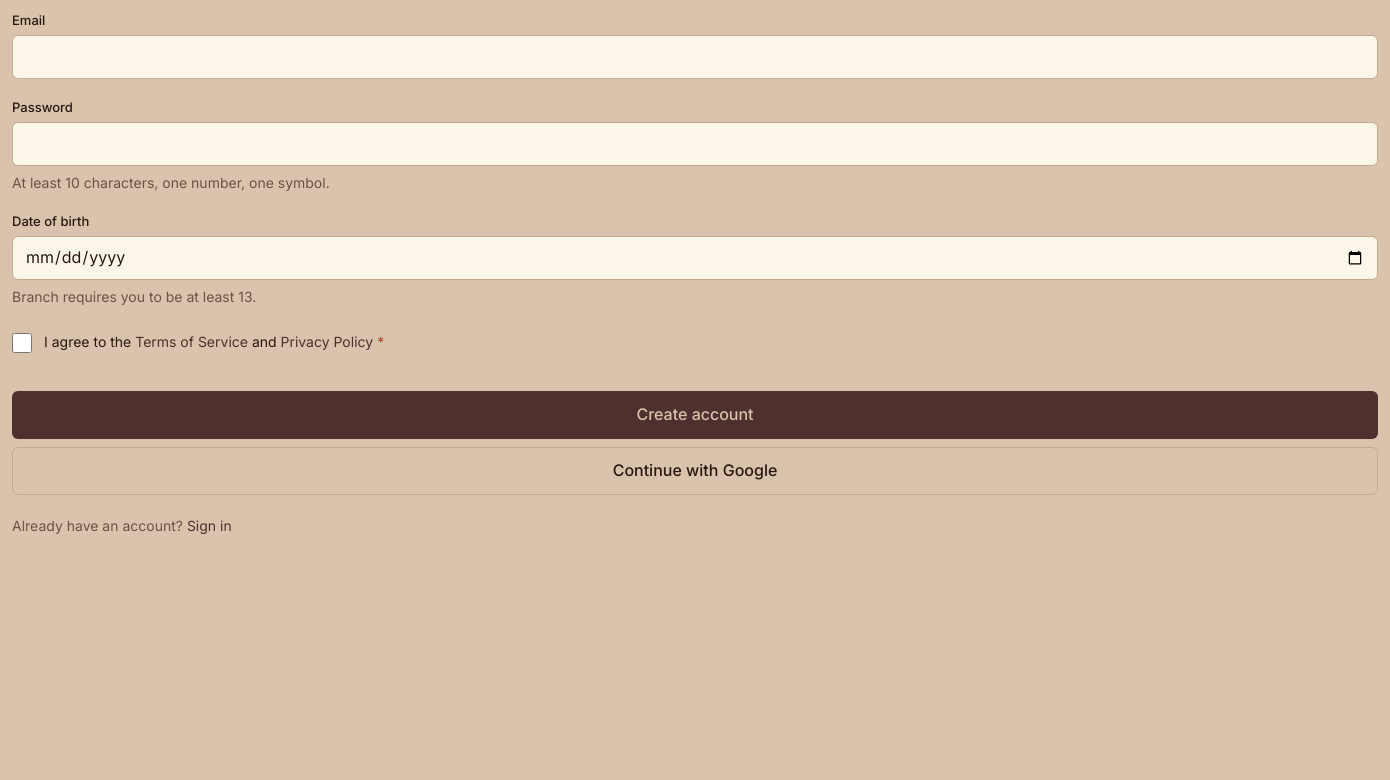
Test case: SignUpForm › rejects passwords missing a number
Step 1. Type "alice@example.com" into the field labelled "Email" → (695, 57), box [12,35,1378,79]
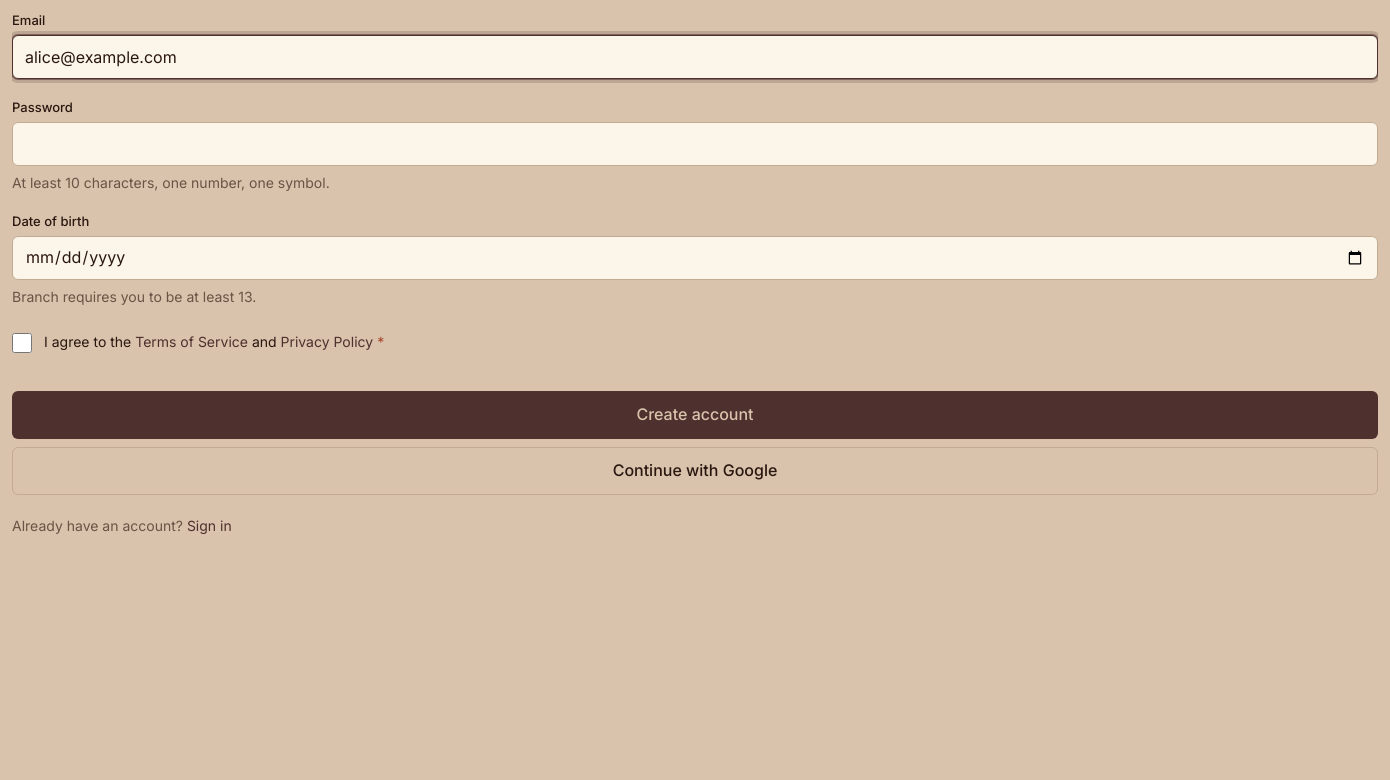
Step 2. Type "nodigitsymbol!" into the password field labelled "Password" → (695, 144), box [12,122,1378,166]
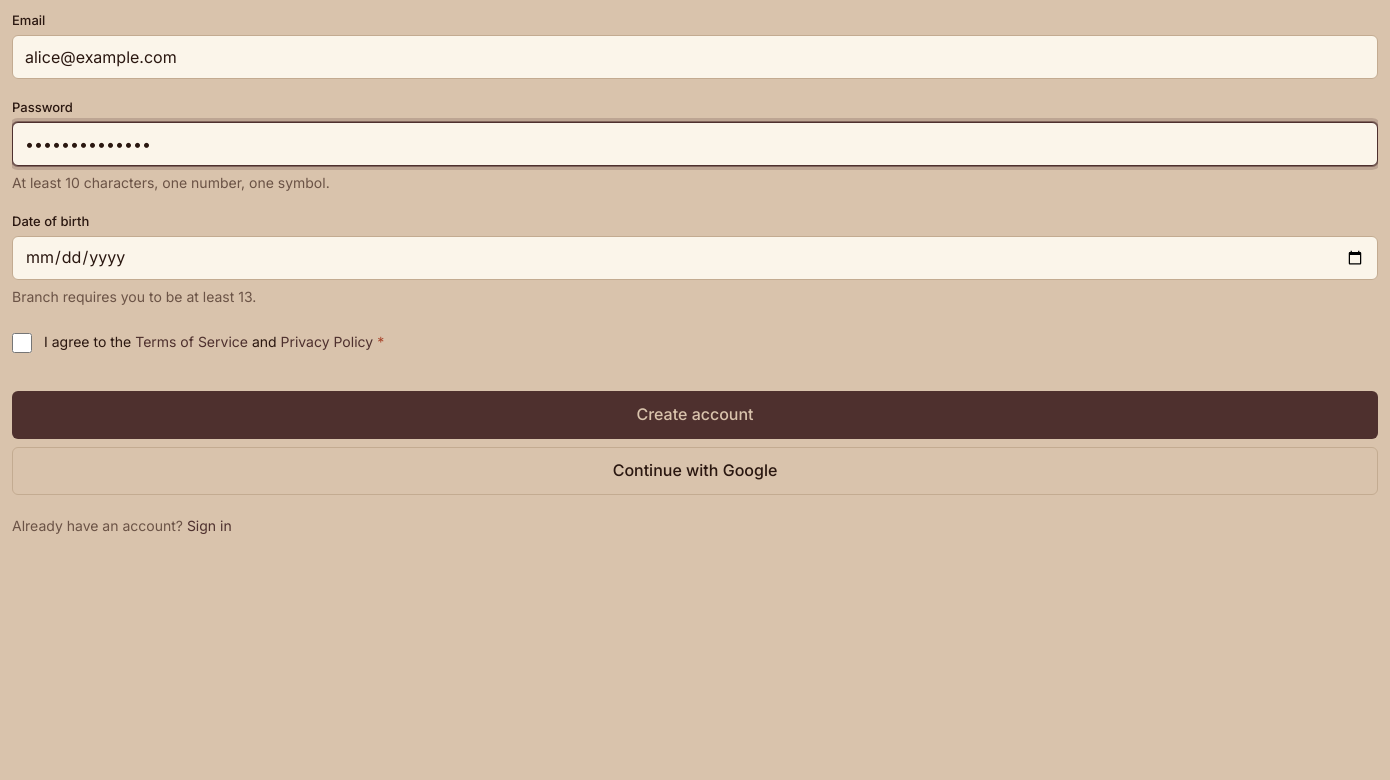
Step 3. Click the button "Create account" → click(695, 415), box [12,391,1378,439]
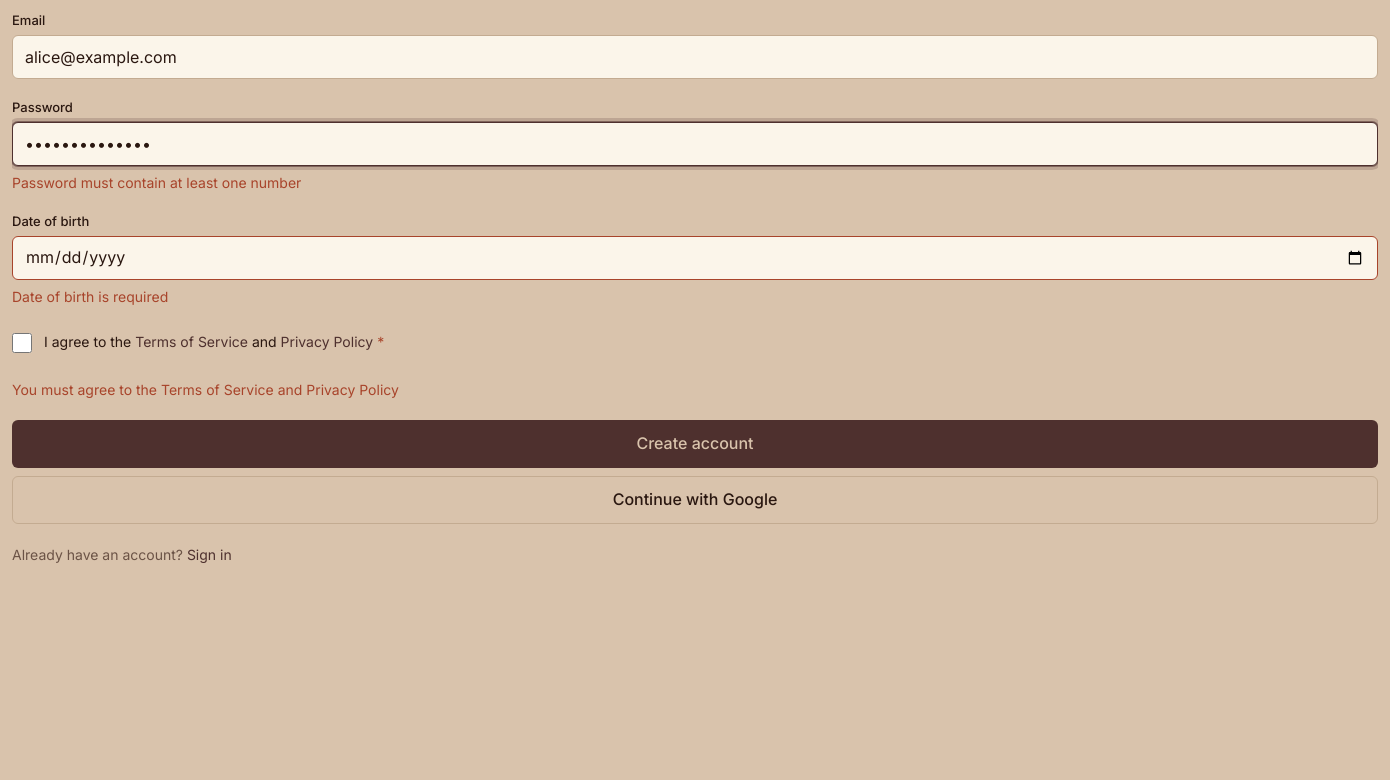
Result: the text "Password must contain at least one number" is shown at [12,174,301,191]
